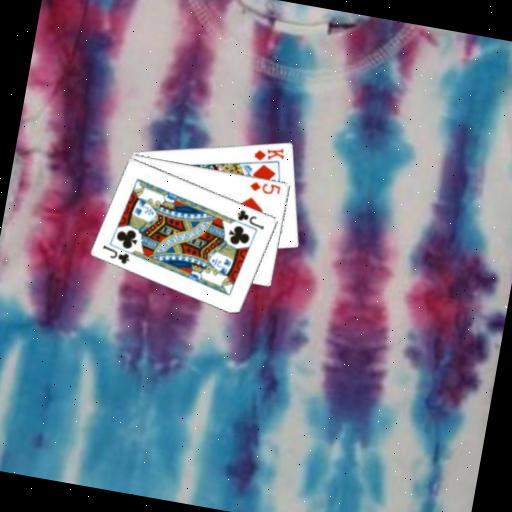5D: (246, 176, 282, 197)
JC: (232, 205, 268, 231), (97, 240, 133, 266)
KD: (249, 140, 287, 166)
